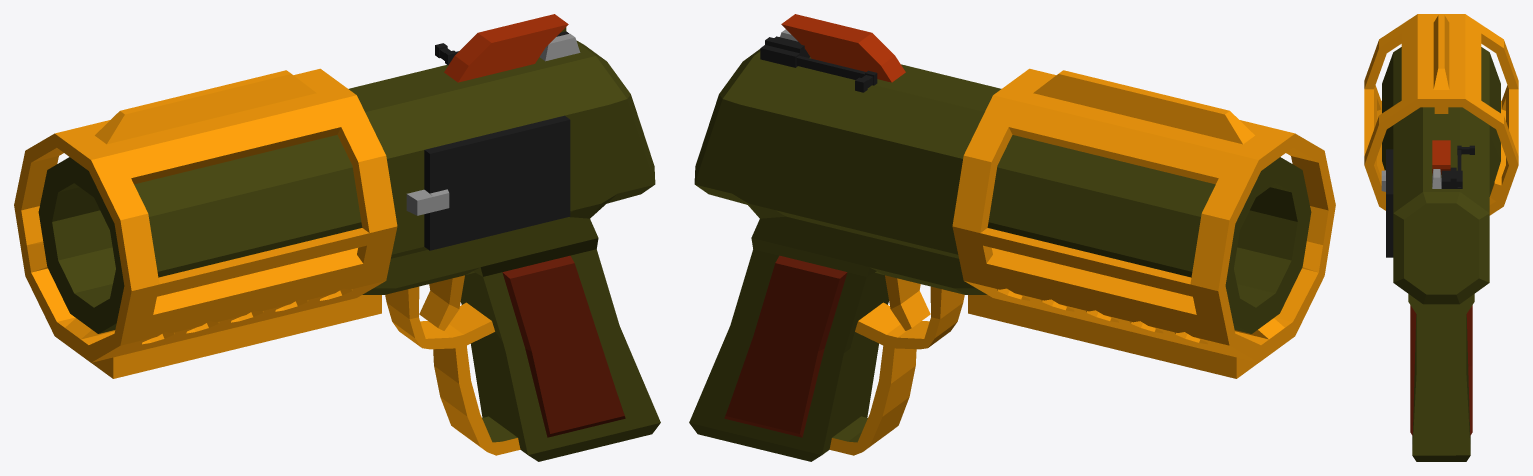
File: stemreeval.FBX
3 views of the same model, side by side, from view 1: azimuth 30°, elevation 25°; view 2: azimuth 150°, elevation 25°; view 3: azimuth 270°, elevation 25° (orthographic). The views are drawn at different scales.
Parts seen in each view (by area): view 1: Main, Cover; view 2: Main, Cover; view 3: Main, Cover.
Boxes of the visible parts, bbox=[...] form: Main: bbox=[38, 14, 660, 461]; Cover: bbox=[14, 68, 397, 378]; Main: bbox=[689, 14, 1311, 461]; Cover: bbox=[952, 68, 1335, 378]; Main: bbox=[1381, 47, 1500, 461]; Cover: bbox=[1364, 14, 1518, 215].
Bounding box in the file's own units: 348 × 254 × 125.
